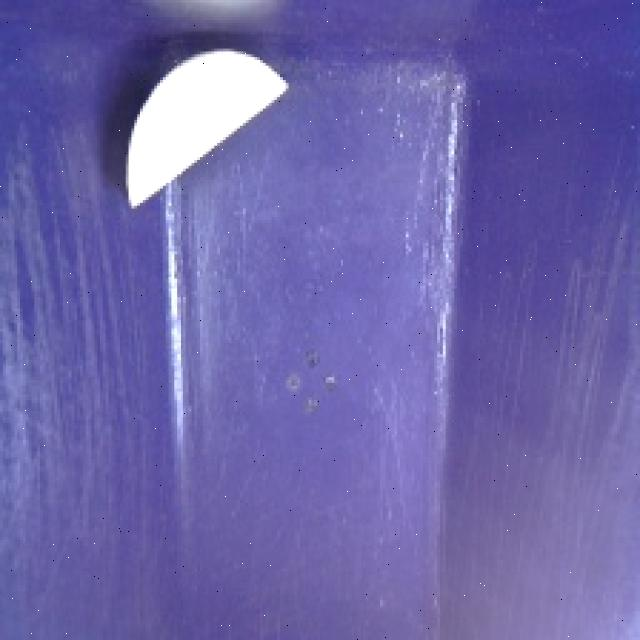white_radish: (113, 32, 303, 226)
